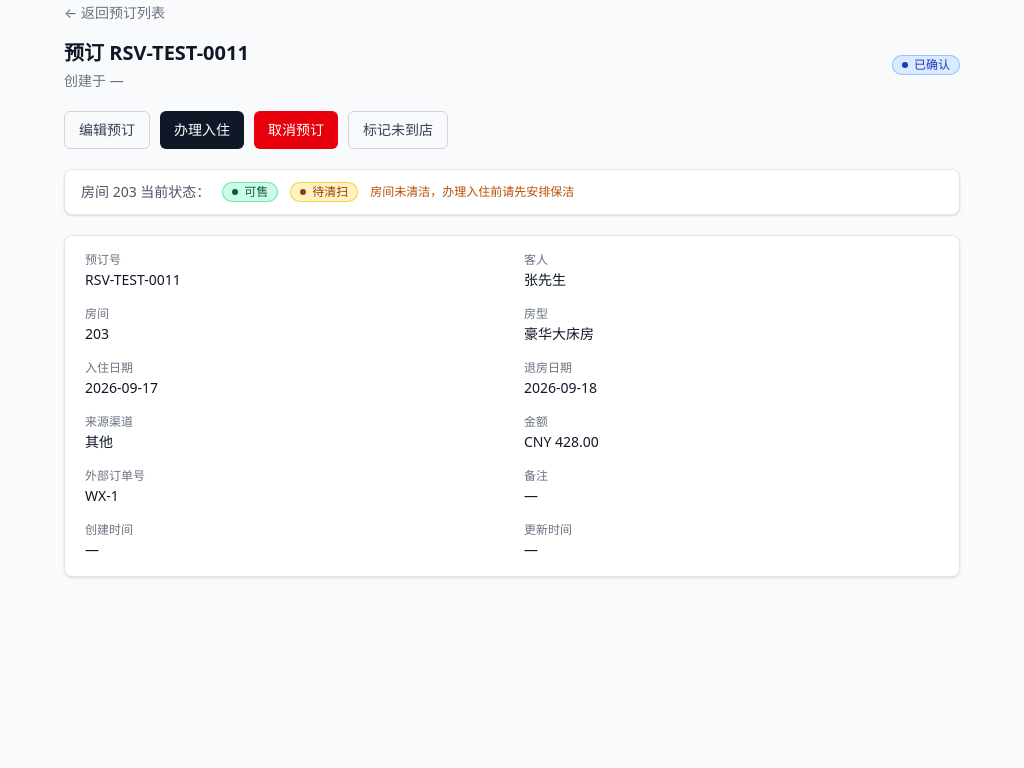
Scenario: ReservationDetailView › Check-in 409（dirty 房间）→ 展示后端 detail 原文
The image size is (1024, 768).
Expected: the heading "预订 RSV-TEST-0011" is shown, [64,39,249,67]
Click the button "办理入住" at (202, 130), box [160,111,244,149]
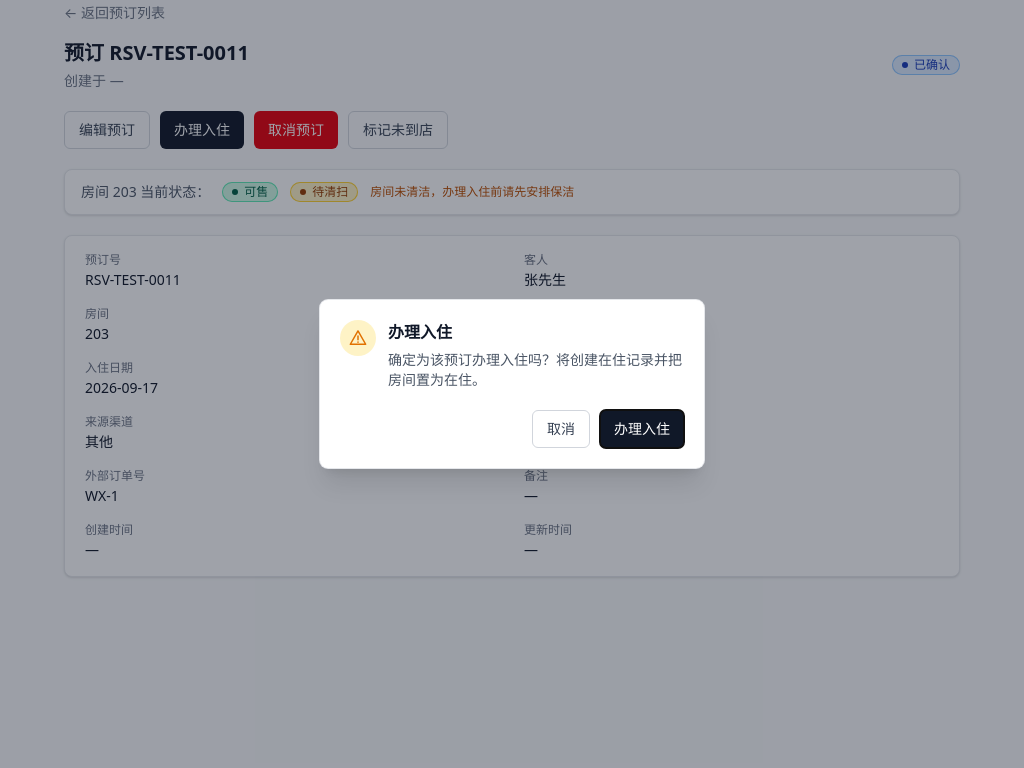
Click the button "办理入住" at (642, 429), box [600,410,684,448]
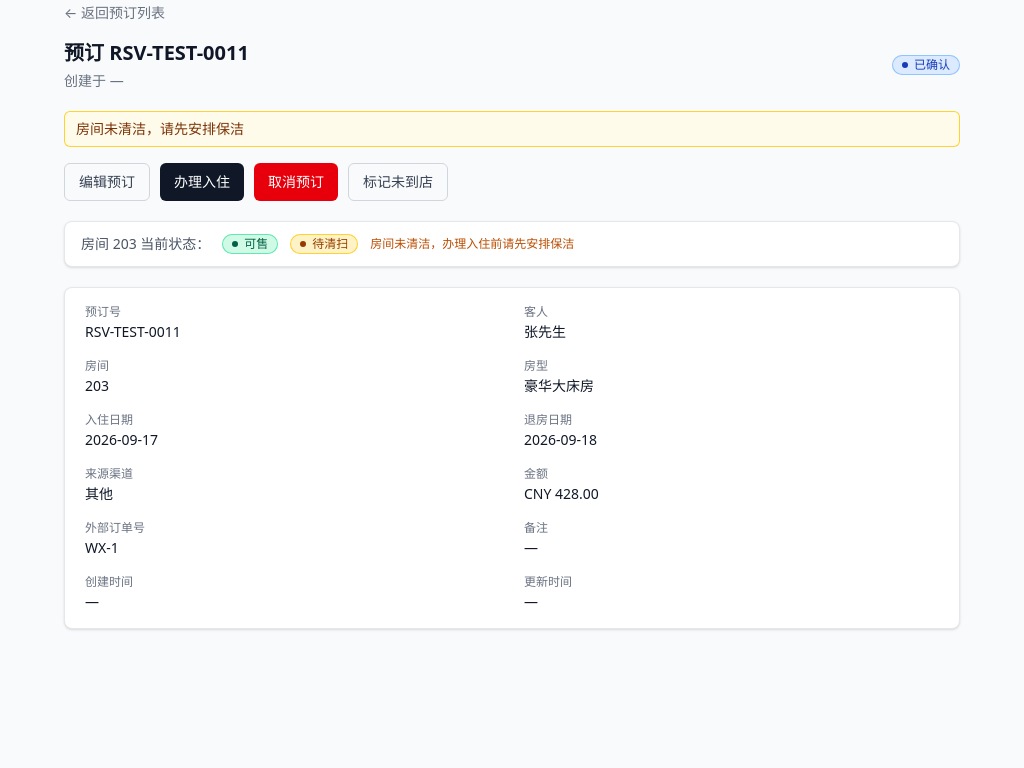
Expected: the text "房间未清洁，请先安排保洁" is shown, [64,111,960,147]
